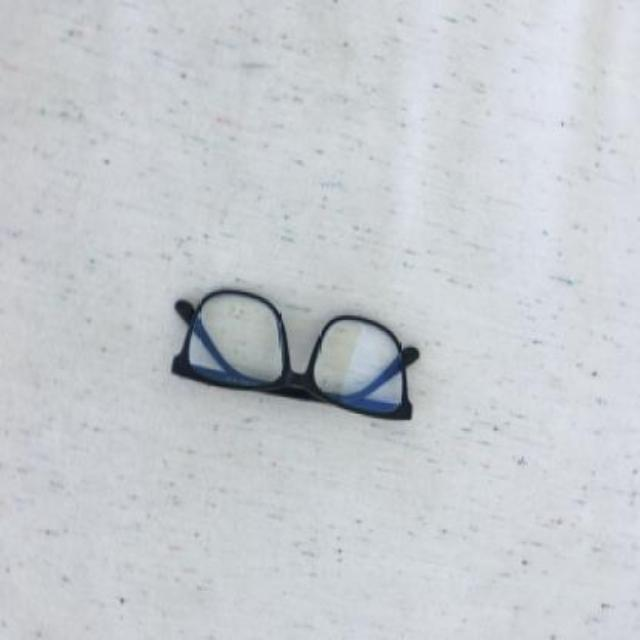glasses: (170, 286, 418, 420)
